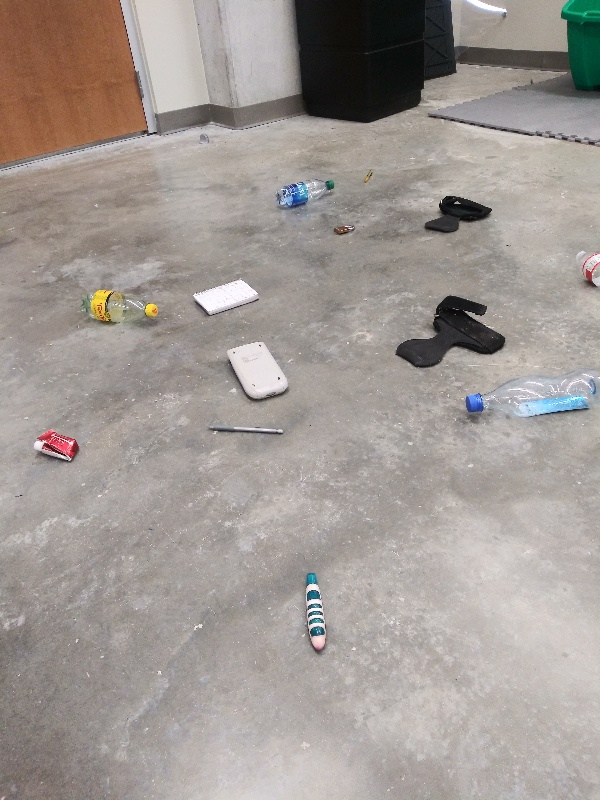bottle: (461, 372, 598, 422), (76, 288, 161, 331), (272, 175, 340, 209), (572, 248, 600, 296)
